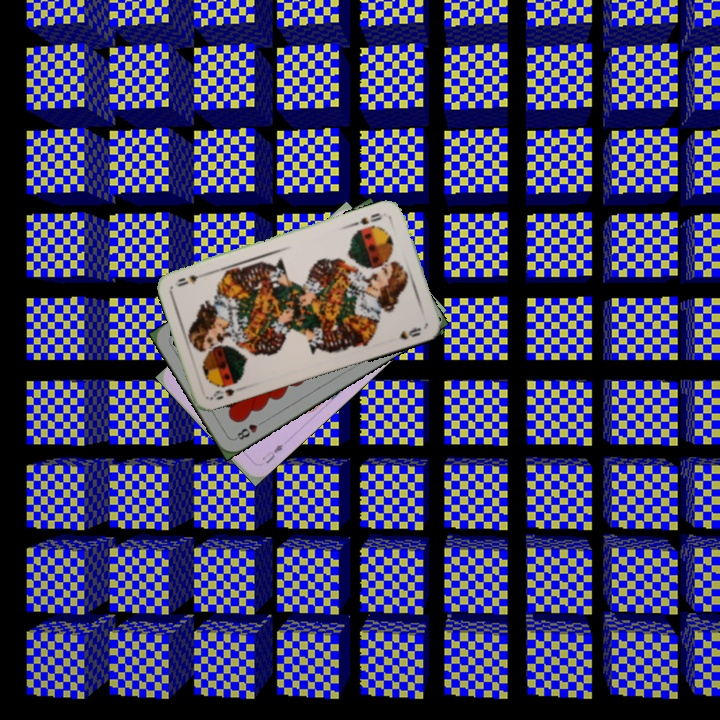EU: (258, 440, 286, 467)
H8: (231, 416, 268, 442)
SO: (349, 209, 385, 228), (207, 385, 237, 403)
